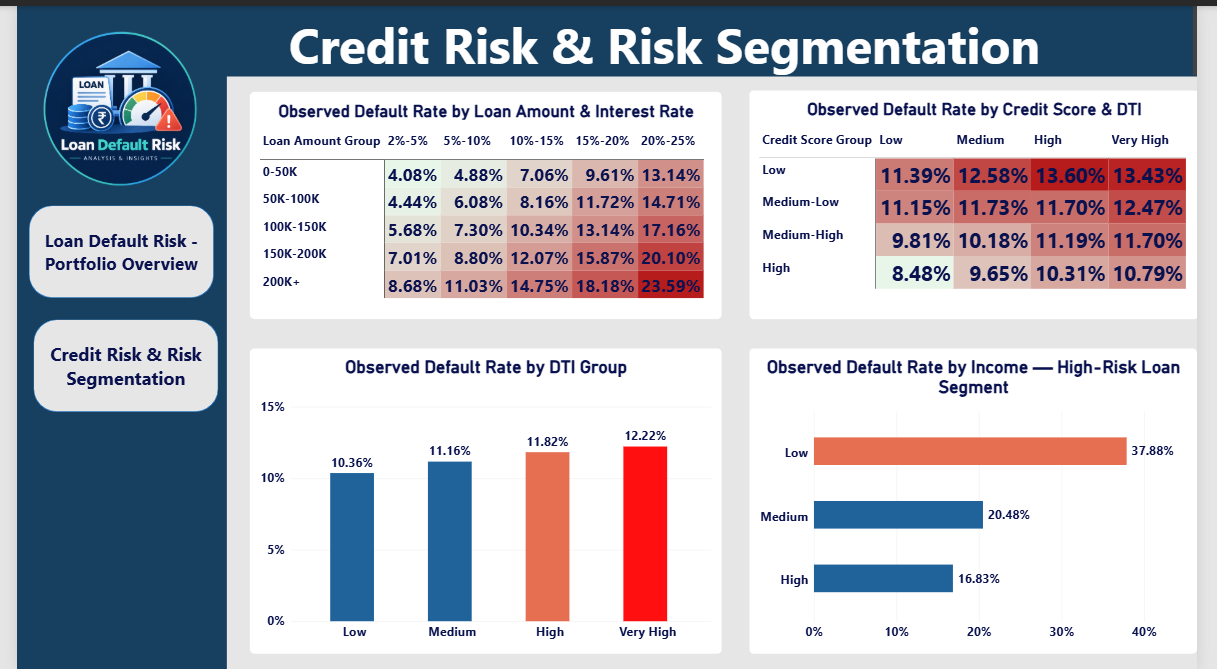

Layout of this report page (visuals, bound fields, positions):
{"tool":"powerbi","page":{"name":"Credit Risk & Risk Segmentation","canvas":[1920,1080],"ordinal":1},"visuals":[{"type":"textbox","box":[0,0,1920.7,114.5],"z":0},{"type":"pivotTable","title":"Observed Default Rate by Loan Amount & Interest Rate","fields":{"Rows":["Loan_Default.Loan Amount Group"],"Columns":["Loan_Default.Interest Rate Group"],"Values":["Loan_Default.Default Rate"]},"box":[378.2,139.1,768.5,370.9],"z":1000},{"type":"pivotTable","title":"Observed Default Rate by Credit Score & DTI","fields":{"Rows":["Loan_Default.Credit Score Group"],"Columns":["Loan_Default.DTI Group"],"Values":["Loan_Default.Default Rate"]},"box":[1190.6,136.6,731.9,373.3],"z":2000},{"type":"textbox","box":[0,0,341.2,1080.8],"z":3000},{"type":"image","box":[11.9,0,314.9,341.2],"z":4000},{"type":"shape","box":[19.1,324.5,300.6,150.3],"z":5000},{"type":"shape","box":[26.2,510.6,300.6,150.3],"z":6000},{"type":"clusteredBarChart","title":"Observed Default Rate by Income — High-Risk Loan Segment","fields":{"Category":["Loan_Default.Income Group"],"Y":["Loan_Default.Default Rate"]},"box":[1190.6,556.3,729.5,497.7],"z":7000},{"type":"clusteredColumnChart","title":"Observed Default Rate by DTI Group","fields":{"Category":["Loan_Default.DTI Group"],"Y":["Loan_Default.Default Rate"]},"box":[378.2,556.3,768.5,497.7],"z":8000}]}

Visuals, with their boxes in screenshot pixels (x1, y1, x2, y2), scaled from the page's 1920x1080 canvas onto the 1217x669 screenshot:
textbox: box=[0, 0, 1216, 71]
"Observed Default Rate by Loan Amount & Interest Rate" pivotTable: box=[240, 86, 727, 316]
"Observed Default Rate by Credit Score & DTI" pivotTable: box=[755, 85, 1216, 316]
textbox: box=[0, 0, 216, 668]
image: box=[8, 0, 207, 211]
shape: box=[12, 201, 203, 294]
shape: box=[17, 316, 207, 409]
"Observed Default Rate by Income — High-Risk Loan Segment" clusteredBarChart: box=[755, 345, 1216, 653]
"Observed Default Rate by DTI Group" clusteredColumnChart: box=[240, 345, 727, 653]
